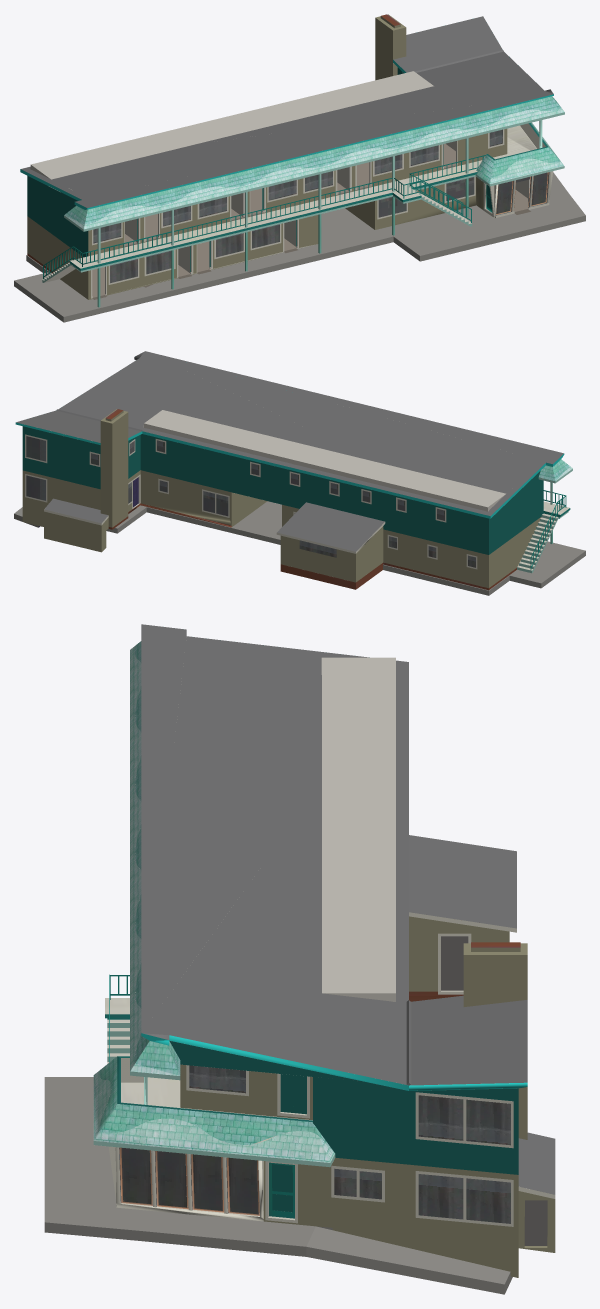
Rendered from roadside-motel.zfix-v5.lod0.glb.
3 renders of one model, top to bottom at view 1: azimuth 30°, elevation 25°; view 2: azimuth 150°, elevation 25°; view 3: azimuth 270°, elevation 25°, orthographic. The views are drawn at different scales.
Visible parts, largest first — view 1: Object_6, Object_5, Object_11, Object_10, Object_8, Object_4; view 2: Object_6, Object_4, Object_5, Object_8, Object_11, Object_10; view 3: Object_6, Object_8, Object_11, Object_5, Object_10, Object_4.
Boxes of the visible parts, left/top/right/bottom form: Object_6: left=14, top=14, right=585, bottom=322; Object_5: left=42, top=123, right=553, bottom=298; Object_11: left=42, top=105, right=564, bottom=282; Object_10: left=64, top=96, right=560, bottom=307; Object_8: left=93, top=129, right=549, bottom=283; Object_4: left=20, top=14, right=553, bottom=279; Object_6: left=14, top=351, right=585, bottom=595; Object_4: left=15, top=409, right=570, bottom=590; Object_5: left=25, top=434, right=569, bottom=570; Object_8: left=26, top=357, right=475, bottom=567; Object_11: left=517, top=466, right=572, bottom=573; Object_10: left=539, top=459, right=569, bottom=543; Object_6: left=44, top=624, right=555, bottom=1294; Object_8: left=119, top=1065, right=510, bottom=1223; Object_11: left=93, top=646, right=335, bottom=1167; Object_5: left=105, top=715, right=555, bottom=1226; Object_10: left=99, top=641, right=334, bottom=1152; Object_4: left=105, top=942, right=527, bottom=1218.
Size of the model in its own units: 37.03 by 9.34 by 17.02.
6 materials, 5 textured.
